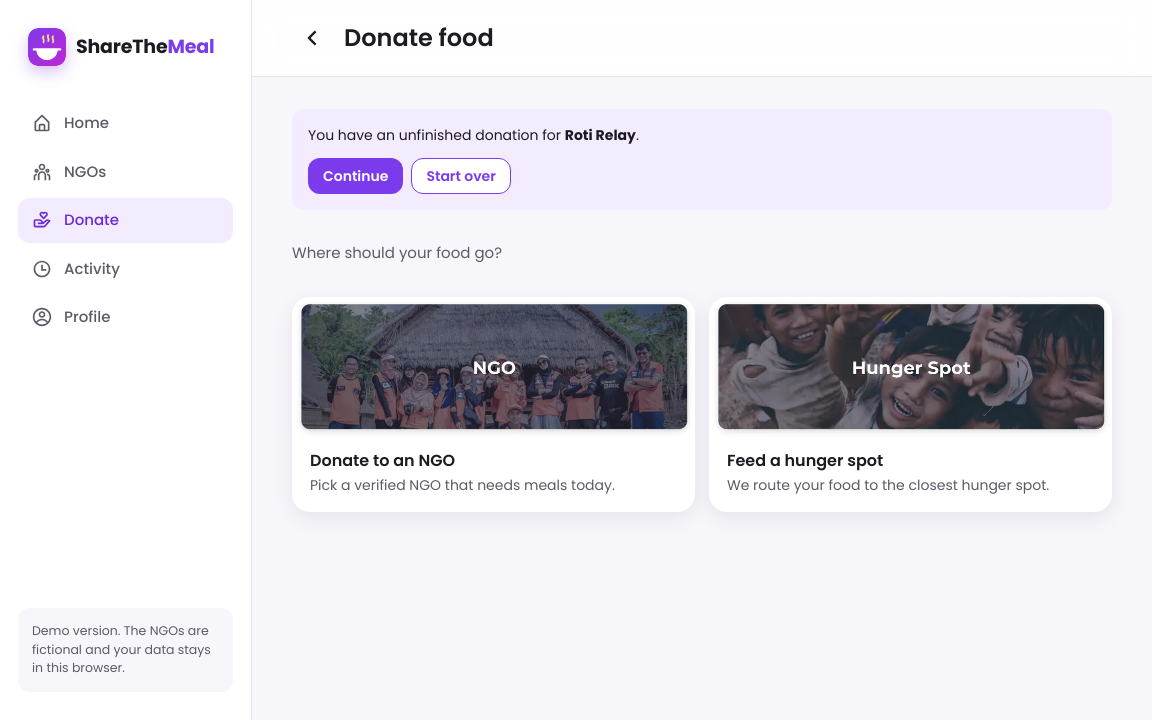
Test: donating › offers to resume a donation in progress
Expected: the text "You have an unfinished donation for Roti Relay." is shown, [308,125,639,145]
Click the link "Continue" at coordinates (356, 176), box [308,158,403,194]
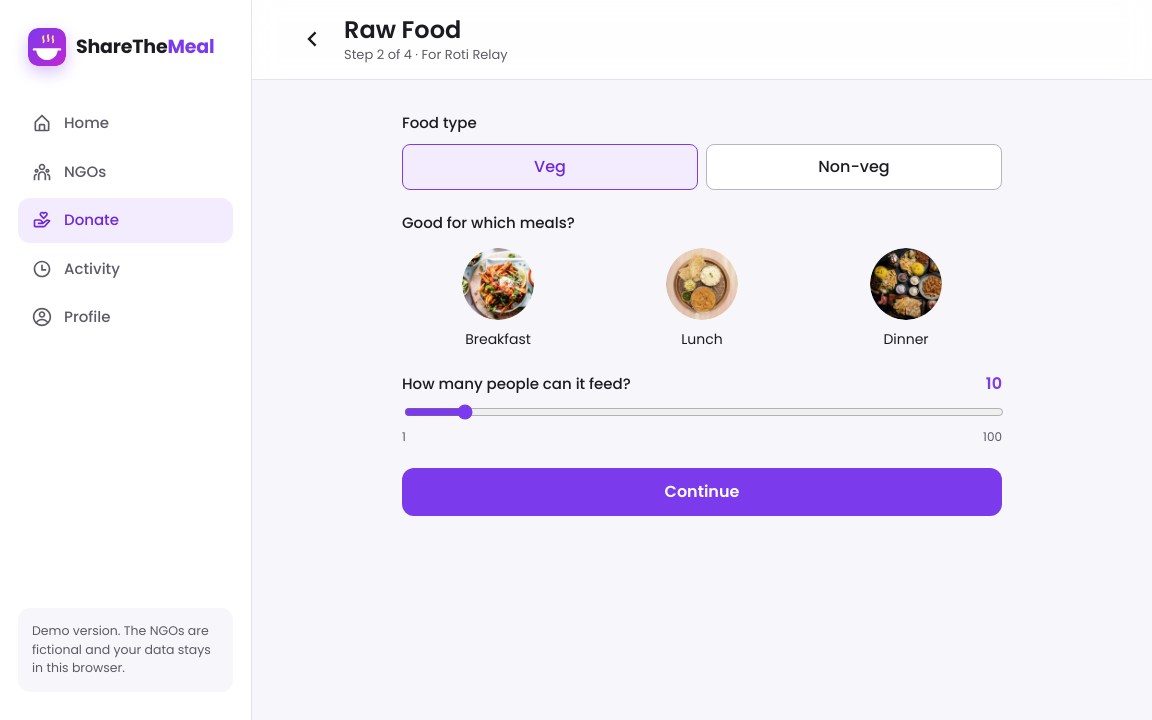
Result: the heading "Raw Food" is shown at [344,13,461,46]
